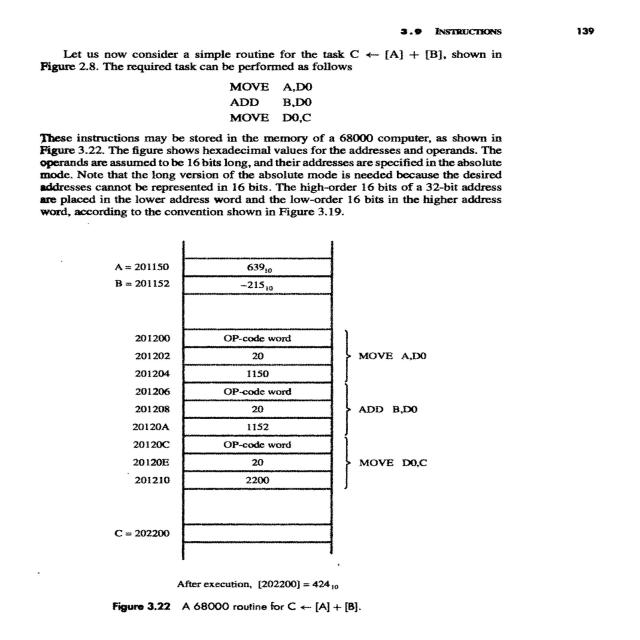diagram: (14, 241, 515, 640)
